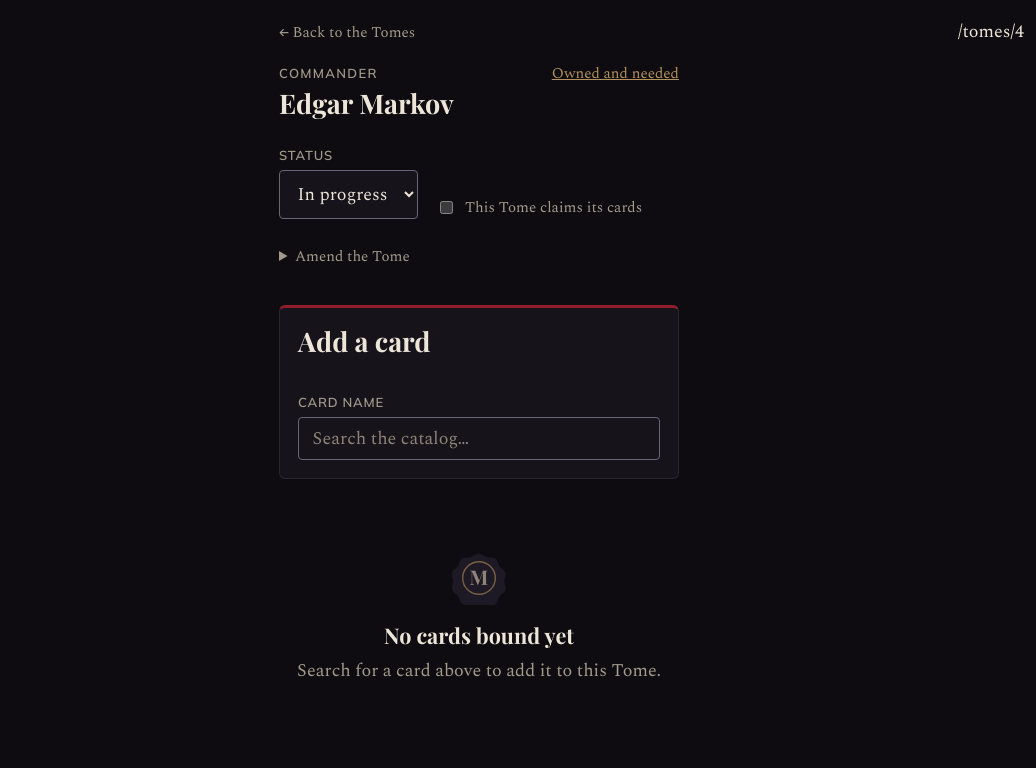
Test: TomeEditorPage › puts the claim back and says why when turning it on is refused
Click the checkbox labelled "This Tome claims its cards": [446, 208] box [440, 201, 453, 214]
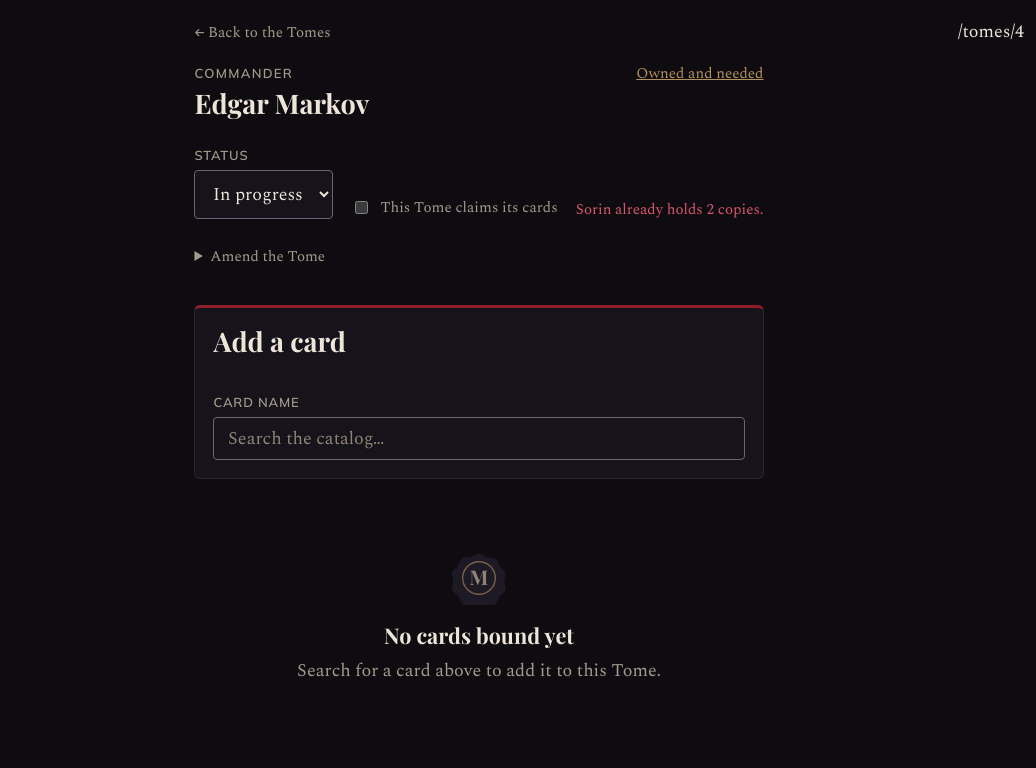
Expected: the checkbox labelled "This Tome claims its cards" is not checked, [355, 201, 368, 214]
Expected: the message reads "Sorin already holds 2 copies.", [576, 198, 764, 220]
